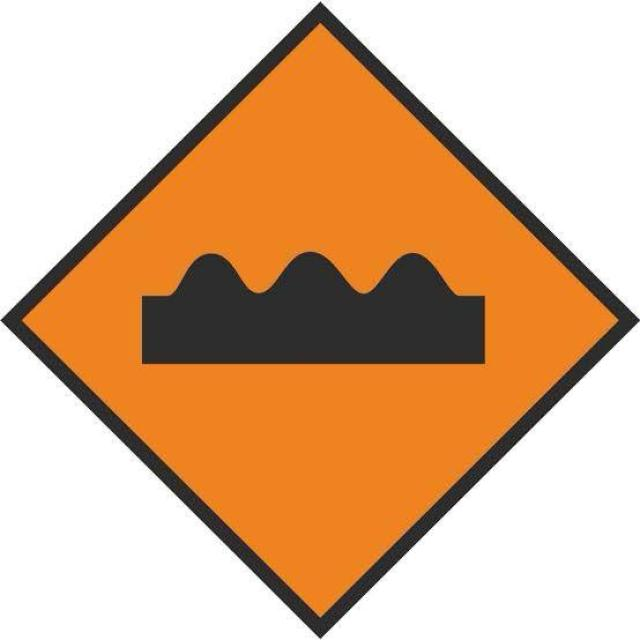Rumble_strip: (12, 0, 640, 640)
